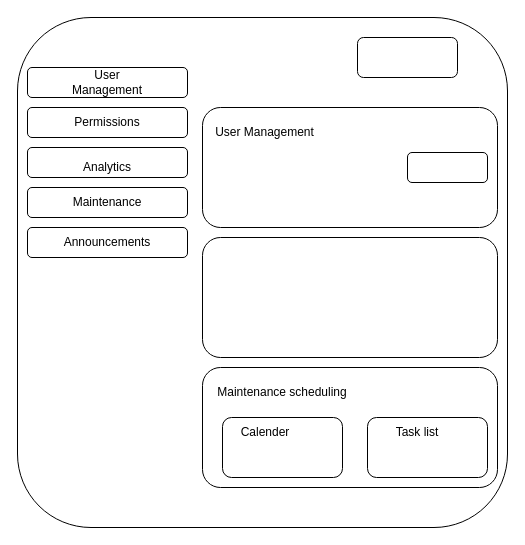
The diagram is 525 pixels wide and 545 high, and some of its shapes have lost their labels. The centre of each missing label's shape, as x and y in pixels:
Add Users: pixel 447 167
Profile: pixel 407 57
System Analytics: pixel 350 297
